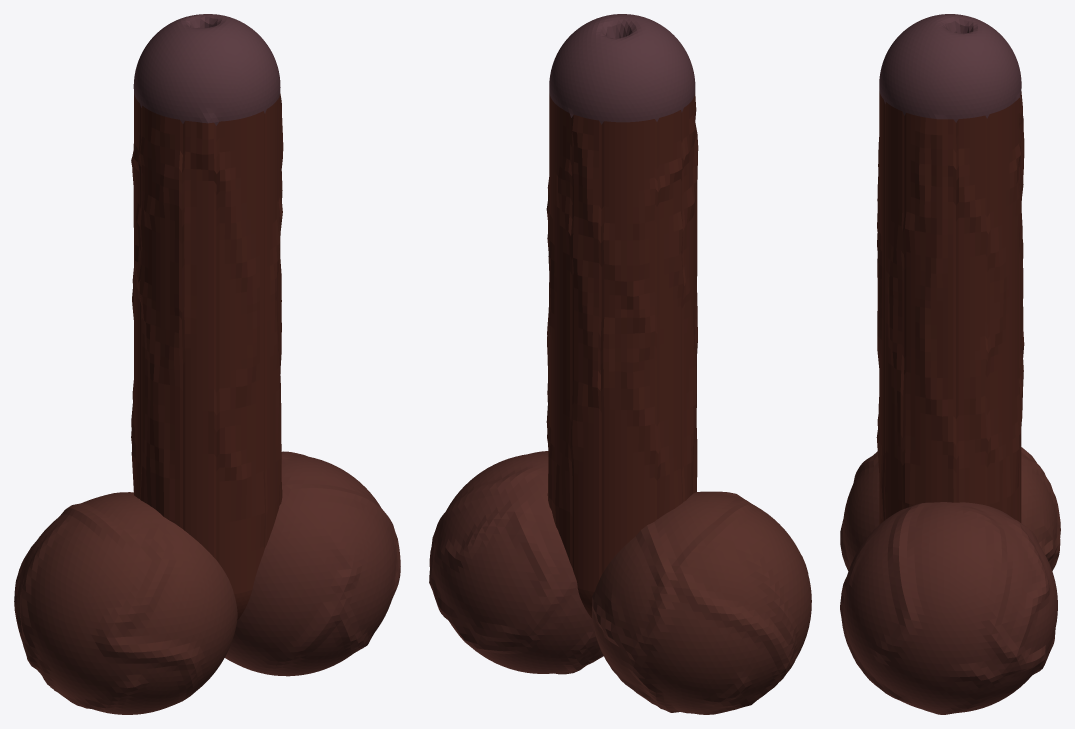
The model's file is MintMans Dildo.fbx.
The picture shows the model from 3 angles, left to right: view 1: azimuth 30°, elevation 25°; view 2: azimuth 150°, elevation 25°; view 3: azimuth 270°, elevation 25°; orthographic projection. The views are drawn at different scales.
Visible parts, largest first — view 1: Icosphere.002, Icosphere.001; view 2: Icosphere.002, Icosphere.001; view 3: Icosphere.002, Icosphere.001.
Part boxes in pixels (x1,y1,x2,y2): Icosphere.002: [131, 14, 283, 620]; Icosphere.001: [14, 451, 400, 714]; Icosphere.002: [546, 14, 698, 618]; Icosphere.001: [429, 451, 811, 714]; Icosphere.002: [876, 14, 1024, 524]; Icosphere.001: [840, 447, 1060, 714].
Bounding box in the file's own units: 368 × 661 × 205.
